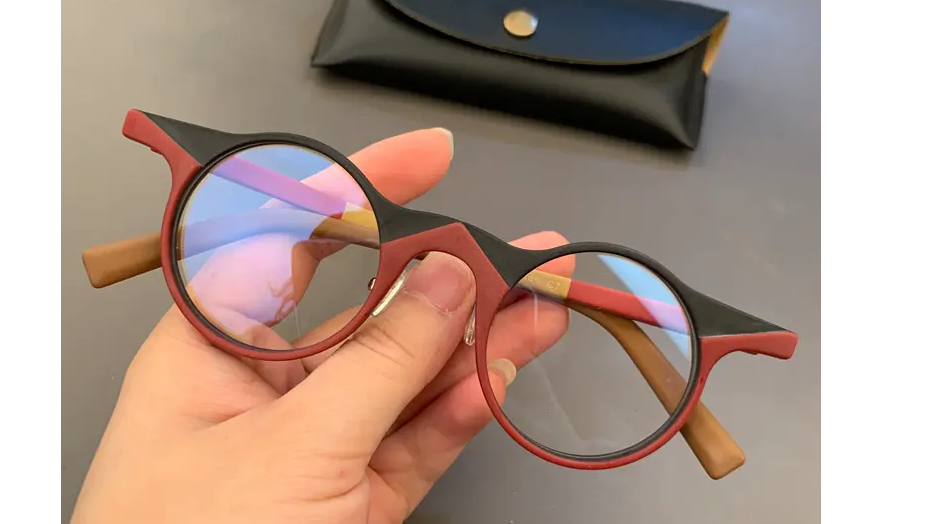glass: (80, 100, 796, 494)
